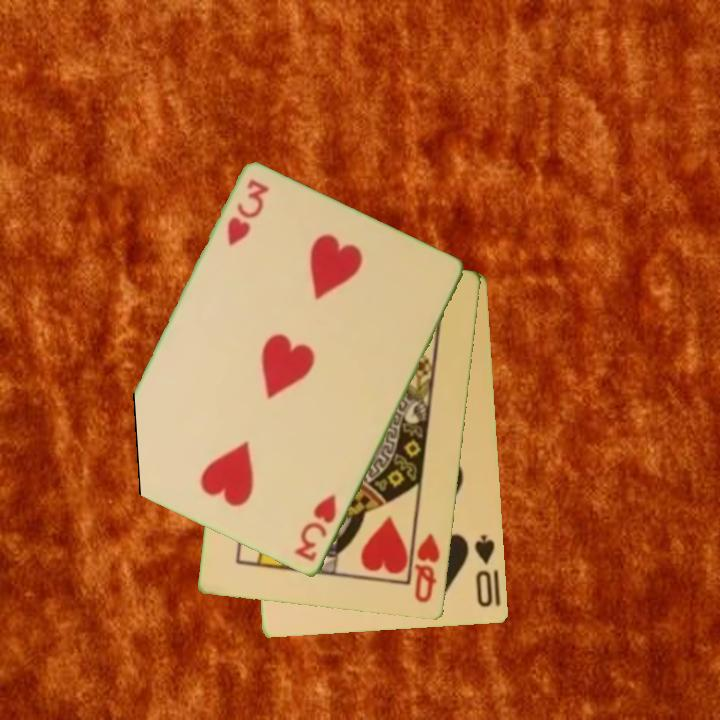10s: (471, 531, 499, 611)
3h: (290, 491, 340, 565), (223, 176, 272, 250)
Qh: (411, 530, 443, 606)
